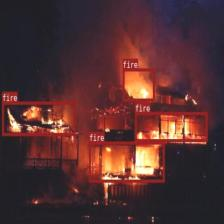fire: (89, 142, 164, 182), (2, 101, 76, 135), (134, 112, 208, 141), (122, 68, 154, 101)
